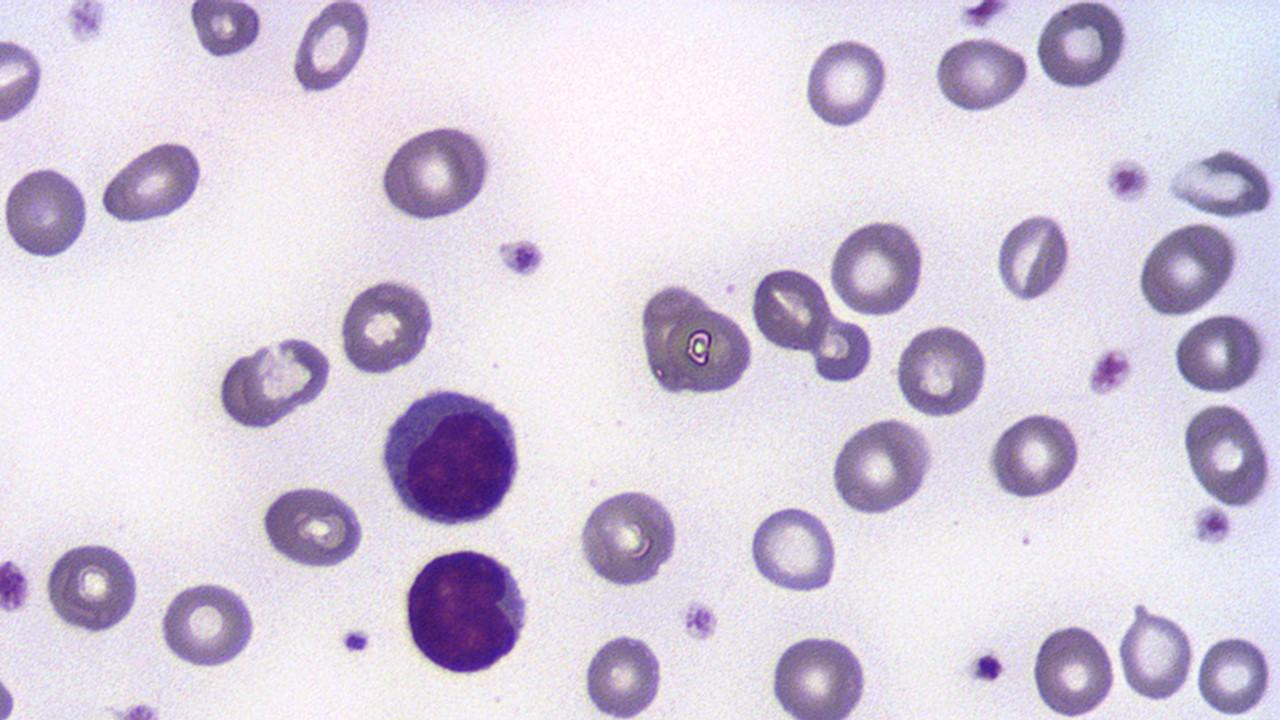Platelets: (186, 2, 266, 61), (492, 232, 550, 280), (1084, 345, 1136, 397), (1103, 156, 1153, 204), (0, 552, 34, 618), (678, 596, 722, 646), (64, 2, 110, 48), (1188, 504, 1236, 548), (965, 644, 1009, 686), (955, 0, 1014, 30), (336, 624, 375, 656), (114, 695, 165, 718)
RBC: (636, 272, 761, 405), (210, 324, 340, 436), (375, 120, 499, 224), (574, 484, 684, 588), (335, 272, 442, 377), (828, 415, 938, 517), (826, 214, 928, 318), (43, 535, 144, 638), (1135, 220, 1241, 318), (256, 481, 369, 572), (96, 137, 210, 227), (1180, 399, 1274, 508), (765, 628, 873, 718), (155, 577, 260, 669), (894, 321, 990, 420), (0, 161, 92, 263), (983, 409, 1083, 502), (1032, 0, 1132, 92), (1029, 618, 1119, 718), (802, 32, 890, 132), (748, 500, 839, 596), (1171, 309, 1271, 396), (930, 33, 1034, 116), (1165, 146, 1279, 219), (289, 0, 372, 98), (1117, 603, 1197, 704), (580, 626, 666, 719), (748, 264, 832, 354), (994, 208, 1074, 302), (1195, 628, 1275, 716), (188, 0, 266, 62), (809, 311, 875, 384), (0, 35, 48, 128)
WBC: (373, 378, 531, 532), (398, 541, 540, 681)
